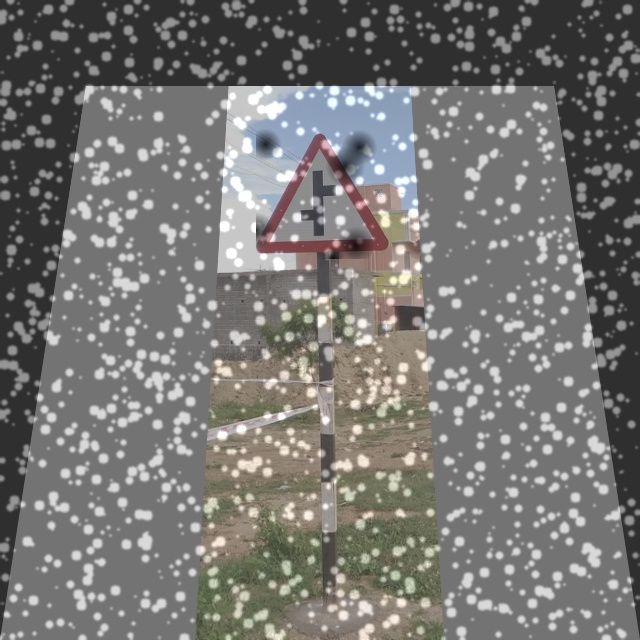Staggered_Intersection: (256, 127, 393, 259)
